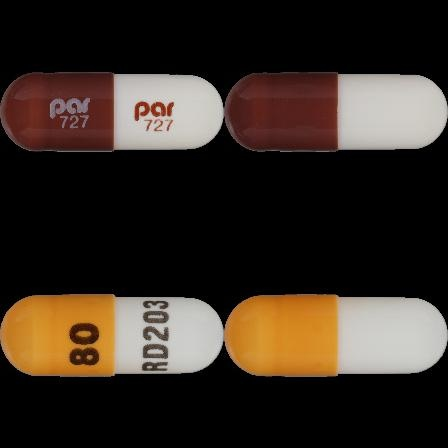50090-1472: (0, 0, 224, 224)
